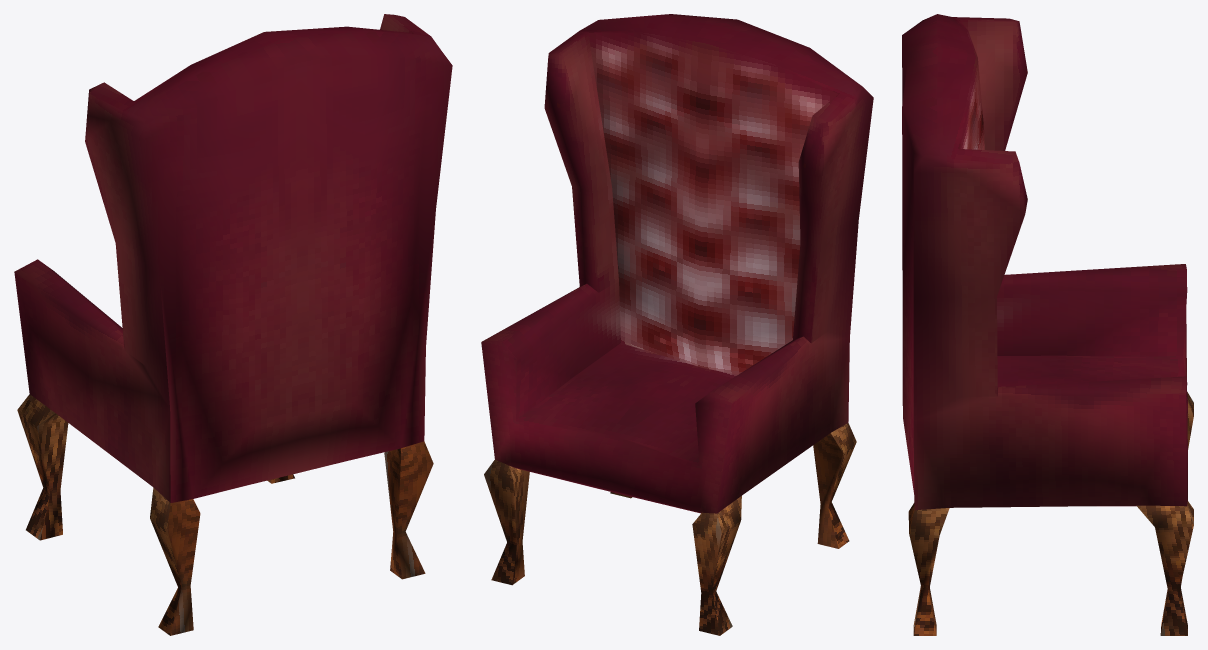
The model's file is Chair.glb.
3 renders of one model, left to right at view 1: azimuth 30°, elevation 25°; view 2: azimuth 150°, elevation 25°; view 3: azimuth 270°, elevation 25°, orthographic. The views are drawn at different scales.
Parts seen in each view (by area): view 1: Cube, Cube.005; view 2: Cube, Cube.005; view 3: Cube, Cube.005.
Part boxes in pixels (box(x1,y1,x2,y2)): Cube: box(14, 14, 452, 502); Cube.005: box(17, 394, 433, 635); Cube: box(481, 14, 873, 513); Cube.005: box(484, 423, 856, 635); Cube: box(902, 14, 1187, 510); Cube.005: box(908, 392, 1193, 635).
Bounding box in the file's own units: 0.8726 × 1.46 × 0.7311.
2 materials, 2 textured.
